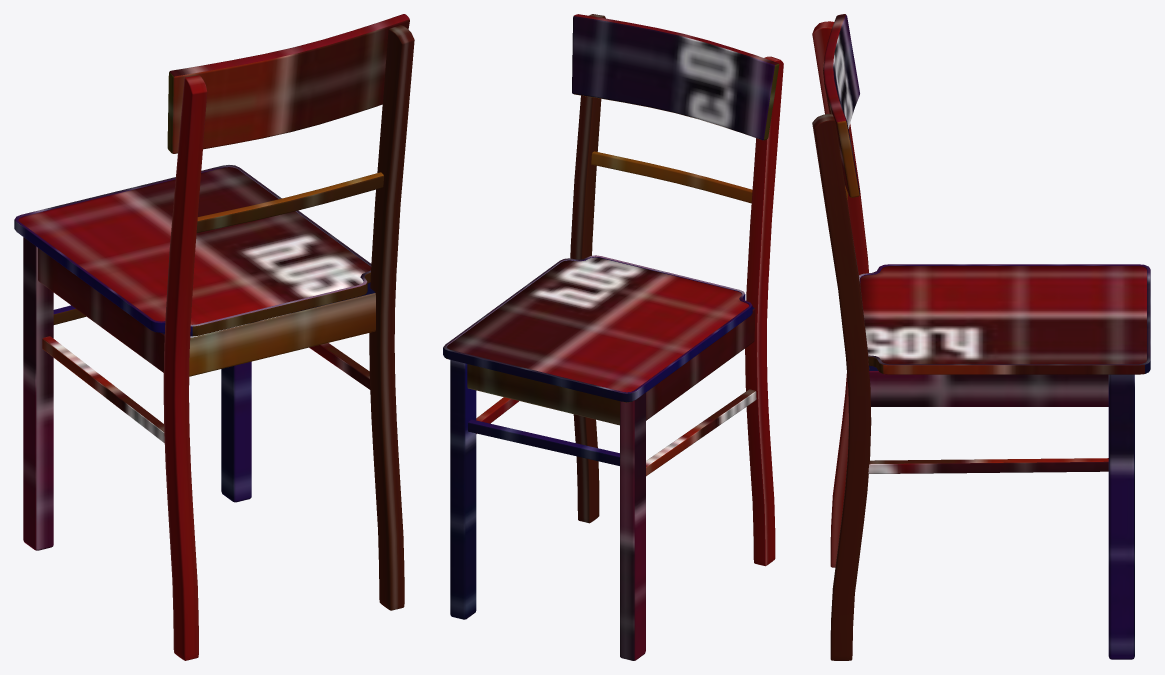
Rendered from CHAIR_UNWRAPPED.fbx.
3 views of the same model, side by side, from view 1: azimuth 30°, elevation 25°; view 2: azimuth 150°, elevation 25°; view 3: azimuth 270°, elevation 25° (orthographic). The views are drawn at different scales.
Visible parts, largest first — view 1: CHAIR; view 2: CHAIR; view 3: CHAIR.
Part boxes in pixels (x1=…): CHAIR: x1=14, y1=14, x2=414, y2=660; CHAIR: x1=443, y1=14, x2=783, y2=660; CHAIR: x1=812, y1=14, x2=1150, y2=660.
Size of the model in its own units: 1.48 by 3.5 by 1.97.
